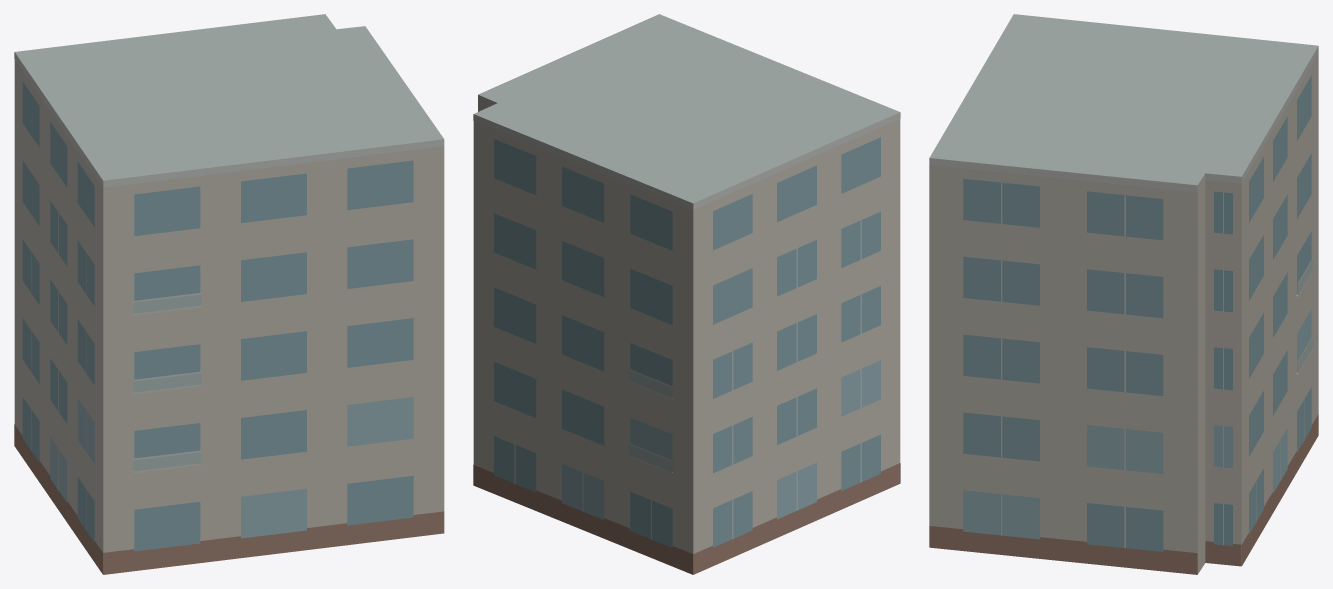
The model's file is survey-upis-32706213.glb.
The picture shows the model from 3 angles, left to right: view 1: azimuth 30°, elevation 25°; view 2: azimuth 150°, elevation 25°; view 3: azimuth 270°, elevation 25°; orthographic projection. The views are drawn at different scales.
Parts seen in each view (by area): view 1: survey-upis-32706213.tmp; view 2: survey-upis-32706213.tmp; view 3: survey-upis-32706213.tmp.
Boxes of the visible parts, left/top/right/bottom form: survey-upis-32706213.tmp: left=14, top=14, right=444, bottom=574; survey-upis-32706213.tmp: left=473, top=14, right=900, bottom=574; survey-upis-32706213.tmp: left=929, top=14, right=1318, bottom=574.
Bounding box in the file's own units: 12.93 × 13.7 × 12.42.
